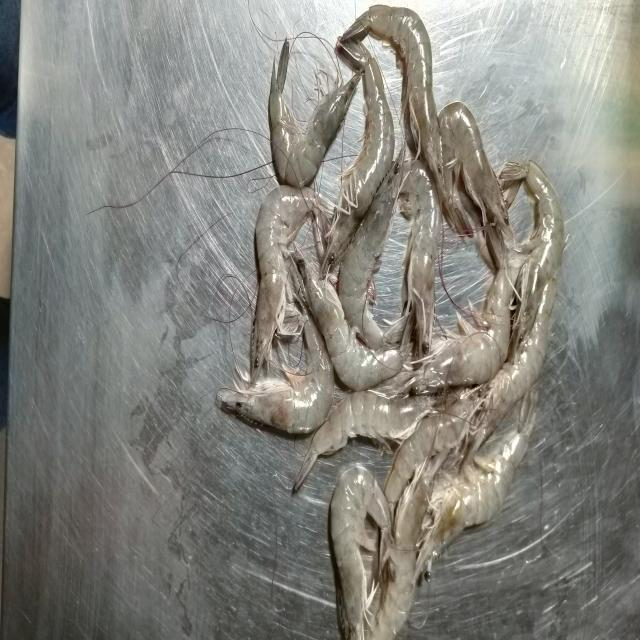shrimp: (339, 4, 472, 235), (415, 412, 535, 578), (322, 40, 395, 274), (469, 277, 556, 454), (298, 259, 409, 392), (370, 452, 446, 640), (216, 314, 334, 434), (251, 186, 321, 385), (295, 392, 434, 489), (269, 40, 360, 188), (338, 151, 404, 350), (410, 266, 512, 394), (500, 162, 564, 361), (438, 102, 512, 270), (330, 467, 391, 640), (385, 398, 472, 505), (399, 159, 441, 356)
